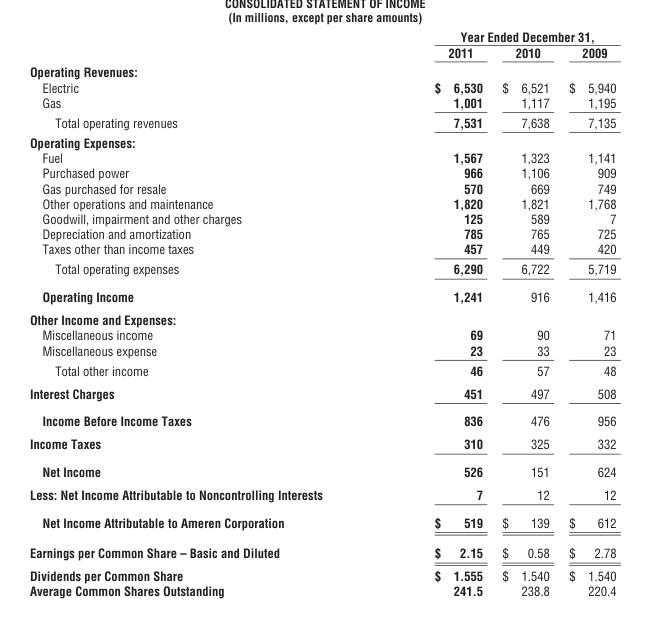table: (28, 28, 615, 598)
table column: (28, 28, 377, 598), (377, 28, 491, 598), (491, 28, 558, 598), (558, 28, 615, 598)
table column header: (28, 28, 615, 62)
table projected row header: (28, 308, 615, 327), (28, 132, 615, 150), (28, 62, 615, 79)
table row: (28, 508, 615, 537), (28, 537, 615, 564), (28, 282, 615, 308), (28, 406, 615, 432), (28, 482, 615, 508), (28, 381, 615, 406), (28, 432, 615, 457), (28, 457, 615, 482), (28, 258, 615, 282), (28, 359, 615, 381), (28, 112, 615, 132), (28, 308, 615, 327), (28, 44, 615, 62), (28, 94, 615, 112), (28, 132, 615, 150), (28, 240, 615, 258), (28, 564, 615, 582), (28, 62, 615, 79), (28, 342, 615, 359), (28, 28, 615, 44), (28, 582, 615, 598), (28, 79, 615, 94), (28, 150, 615, 165), (28, 165, 615, 180), (28, 180, 615, 195), (28, 195, 615, 210), (28, 210, 615, 225), (28, 225, 615, 240), (28, 327, 615, 342)
table spanning cell: (377, 28, 615, 44)
